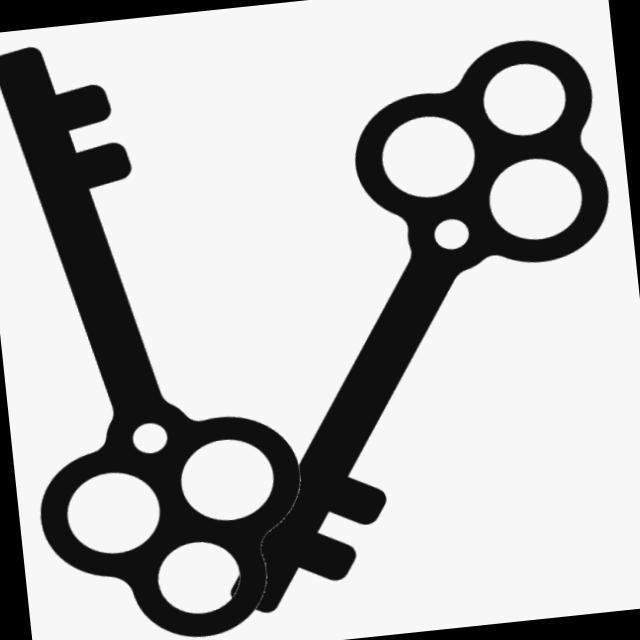key: (163, 20, 640, 623), (1, 12, 331, 640)
